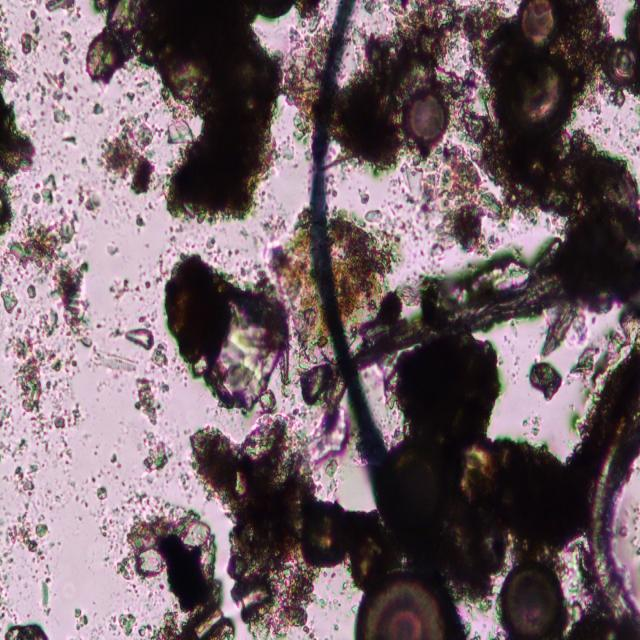Background material: (392, 340, 590, 590), (444, 102, 640, 309), (129, 0, 285, 223), (333, 1, 513, 166), (189, 419, 315, 634), (161, 254, 289, 415), (116, 498, 222, 608), (402, 150, 512, 254), (267, 200, 331, 358), (299, 490, 388, 585), (333, 214, 401, 326), (561, 1, 617, 104), (85, 1, 145, 88), (4, 213, 82, 274), (299, 359, 346, 460), (278, 26, 320, 138), (99, 118, 157, 195), (40, 420, 88, 507), (54, 261, 98, 352), (7, 324, 50, 417), (0, 90, 36, 176), (46, 346, 90, 403), (153, 607, 232, 637), (0, 514, 49, 562), (34, 71, 74, 127), (94, 338, 144, 379), (129, 320, 169, 369), (170, 219, 216, 258), (105, 266, 153, 302), (607, 105, 640, 155), (138, 428, 172, 473), (92, 499, 126, 544), (530, 356, 563, 401), (134, 376, 162, 429), (0, 402, 25, 458), (114, 78, 151, 114), (104, 611, 149, 637), (13, 461, 39, 503), (19, 7, 41, 56), (39, 407, 81, 432), (76, 181, 104, 217), (0, 618, 50, 638), (260, 200, 284, 241), (104, 430, 124, 477), (0, 39, 18, 88), (0, 180, 14, 238), (32, 176, 58, 206), (44, 0, 80, 21), (57, 29, 75, 66), (173, 458, 193, 491), (0, 287, 20, 317), (41, 576, 54, 616), (108, 238, 127, 262), (136, 208, 150, 238), (71, 606, 87, 632), (77, 152, 95, 172), (356, 186, 372, 206), (365, 211, 385, 226), (25, 282, 39, 303), (90, 100, 106, 117), (95, 485, 107, 502), (61, 136, 78, 146)
Cellulose filter fibre: (351, 251, 611, 368), (569, 352, 640, 640)
Cotton: (304, 0, 464, 640)
Diatom: (351, 569, 467, 640), (504, 52, 576, 134), (498, 562, 566, 636), (408, 92, 452, 145), (539, 296, 579, 354), (517, 0, 561, 49), (604, 42, 639, 89), (251, 1, 294, 21)
